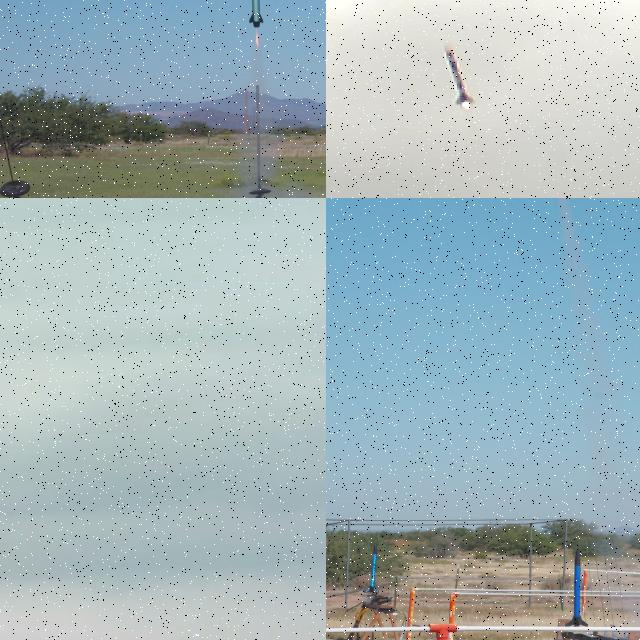Rocket: (443, 44, 476, 106), (564, 550, 589, 628), (364, 542, 382, 595), (248, 0, 264, 28)
